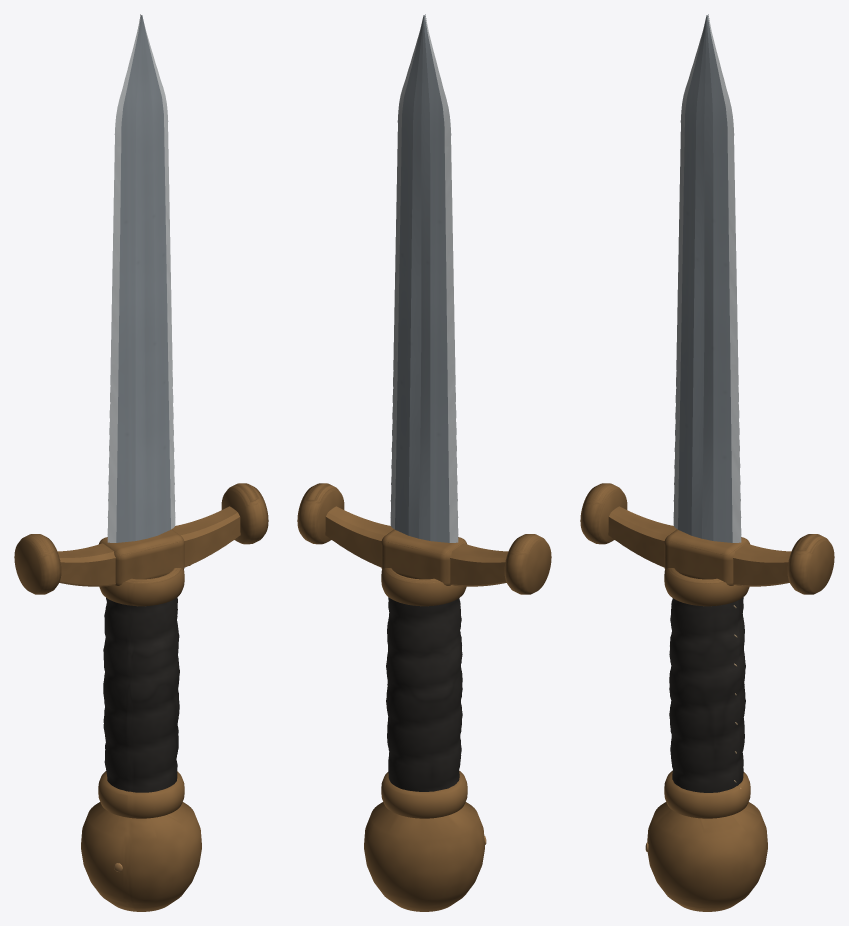
File: dagger.glb
The picture shows the model from 3 angles, left to right: view 1: azimuth 30°, elevation 25°; view 2: azimuth 150°, elevation 25°; view 3: azimuth 330°, elevation 25°; orthographic projection.
Visible parts, largest first — view 1: bronze / cast bronze with patina, steel / forged blade steel, leather / oiled leather wrap, edge / honed bright bevel; view 2: bronze / cast bronze with patina, steel / forged blade steel, leather / oiled leather wrap, edge / honed bright bevel; view 3: bronze / cast bronze with patina, steel / forged blade steel, leather / oiled leather wrap, edge / honed bright bevel.
Part boxes in pixels (box(x1,y1,x2,y2)): bronze / cast bronze with patina: box(14, 483, 268, 911); steel / forged blade steel: box(116, 14, 170, 542); leather / oiled leather wrap: box(103, 597, 179, 792); edge / honed bright bevel: box(107, 15, 175, 542); bronze / cast bronze with patina: box(297, 483, 551, 911); steel / forged blade steel: box(395, 14, 449, 542); leather / oiled leather wrap: box(386, 597, 462, 791); edge / honed bright bevel: box(390, 15, 458, 542); bronze / cast bronze with patina: box(580, 483, 834, 911); steel / forged blade steel: box(678, 14, 732, 542); leather / oiled leather wrap: box(669, 597, 745, 792); edge / honed bright bevel: box(673, 15, 741, 542).
Size of the model in its own units: 0.1109 by 0.41 by 0.0507.
6 materials, 4 textured.
